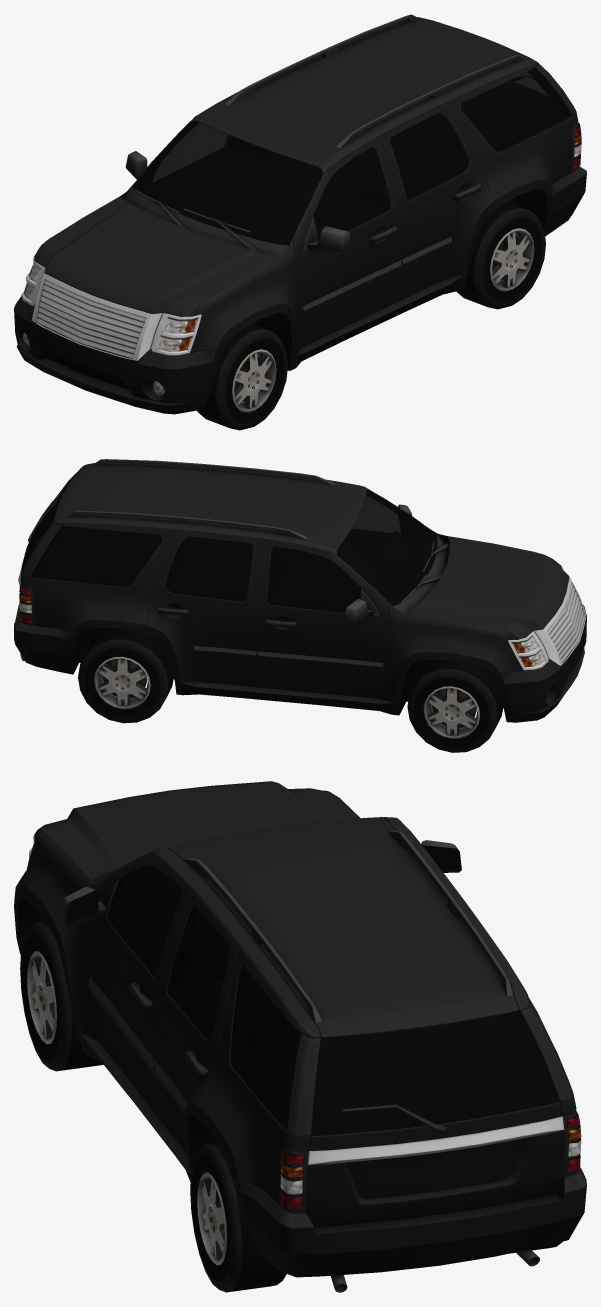
Rendered from car_02.glb.
3 renders of one model, top to bottom at view 1: azimuth 30°, elevation 25°; view 2: azimuth 150°, elevation 25°; view 3: azimuth 270°, elevation 25°, orthographic. The views are drawn at different scales.
Visible parts, largest first — view 1: SUV Body, Wheel_E001_Wheel_0.001, Wheel_E_Wheel_0.001; view 2: SUV Body, Wheel_E003_Wheel_0.001, Wheel_E002_Wheel_0.001; view 3: SUV Body, Wheel_E001_Wheel_0.001, Wheel_E_Wheel_0.001.
Boxes of the visible parts, left/top/right/bottom form: SUV Body: left=14, top=14, right=586, bottom=414; Wheel_E001_Wheel_0.001: left=456, top=201, right=545, bottom=309; Wheel_E_Wheel_0.001: left=197, top=323, right=287, bottom=430; SUV Body: left=14, top=459, right=586, bottom=722; Wheel_E003_Wheel_0.001: left=78, top=628, right=173, bottom=723; Wheel_E002_Wheel_0.001: left=407, top=660, right=503, bottom=752; SUV Body: left=14, top=781, right=586, bottom=1292; Wheel_E001_Wheel_0.001: left=190, top=1142, right=286, bottom=1292; Wheel_E_Wheel_0.001: left=20, top=921, right=103, bottom=1071.
Bounding box in the file's own units: 4.65 × 1.73 × 2.84.
Materials: 4 (3 with a texture image).
